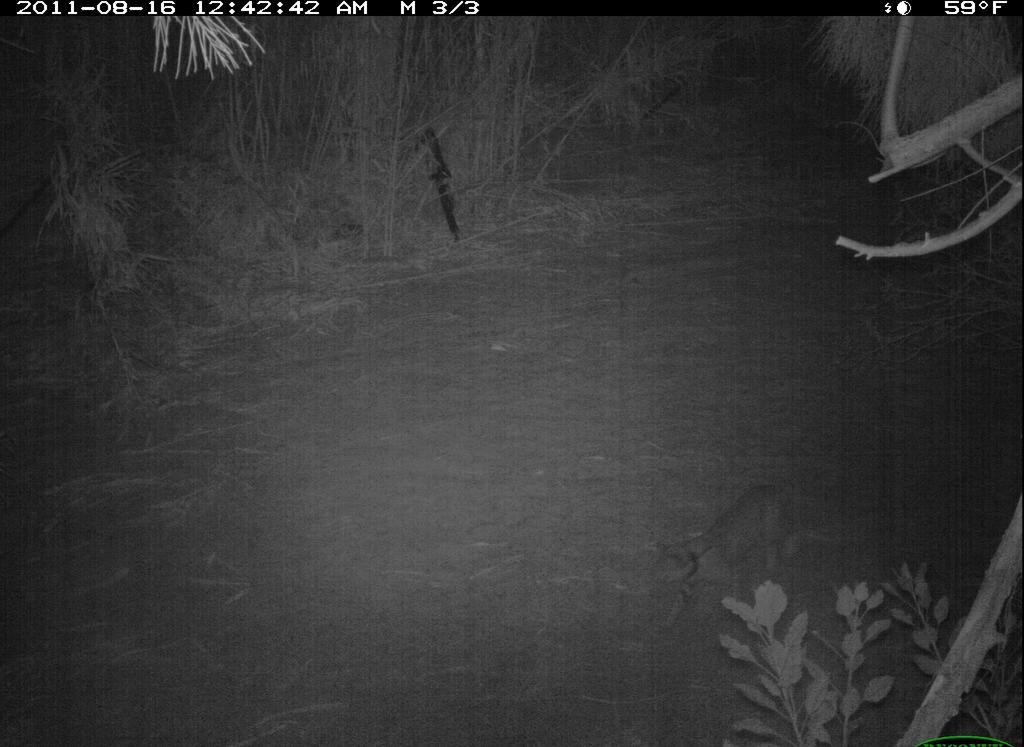bobcat: (641, 470, 813, 643)
